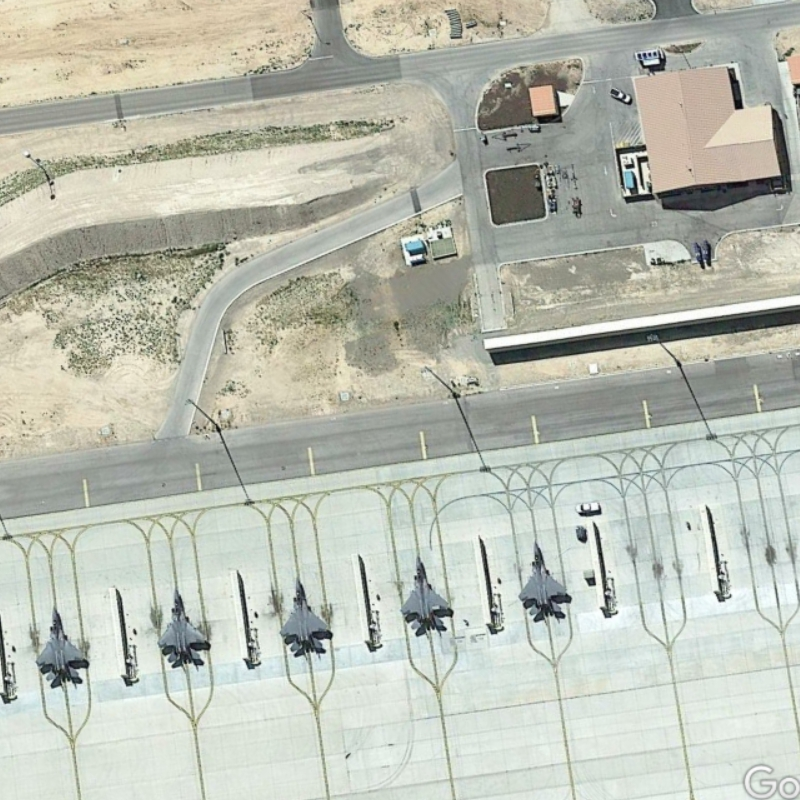A13: (150, 584, 212, 671), (274, 575, 335, 657), (398, 551, 453, 637), (34, 602, 90, 686), (517, 538, 571, 619)
